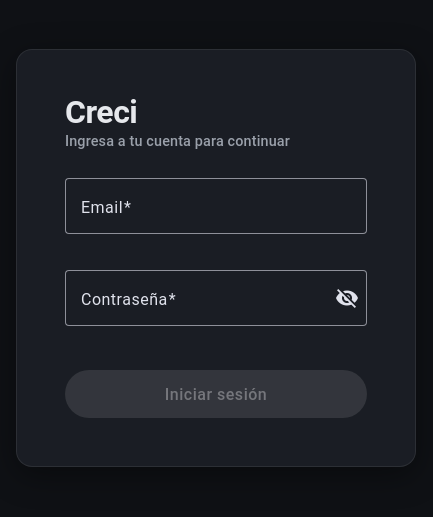
Test: LoginComponent › Estado de error del servicio › debe mostrar mensaje de error cuando el servicio responde 401
The image size is (433, 517).
In the field named "Dirección de email": {"x": 216, "y": 206} top-left (81, 194), bottom-right (351, 218), type "bad@user.com"
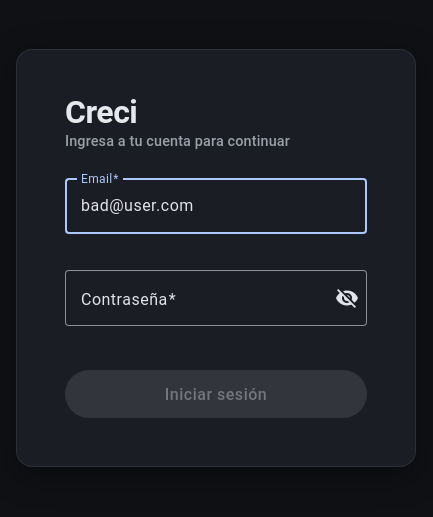
In the password field labelled "Contraseña": {"x": 202, "y": 298} top-left (81, 286), bottom-right (323, 310), type "wrongpass"
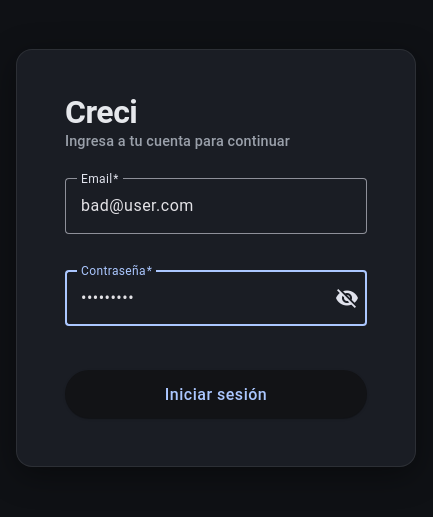
Click the button "Iniciar sesión": {"x": 216, "y": 394} top-left (65, 370), bottom-right (367, 418)
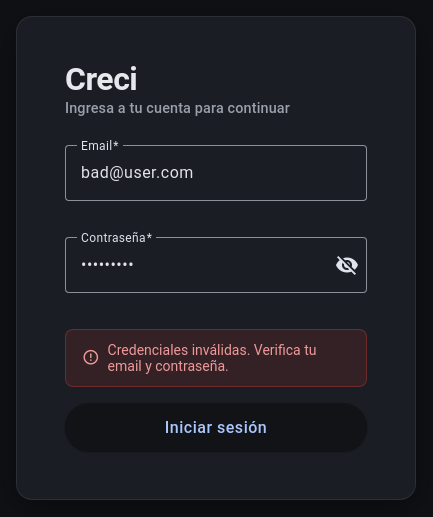
Check: the message "Credenciales inválidas. Verifica tu email y contraseña." is shown, box top-left (65, 329), bottom-right (367, 387)
Check: the text "Credenciales inválidas. Verifica tu email y contraseña." is shown, box top-left (108, 342), bottom-right (350, 374)
